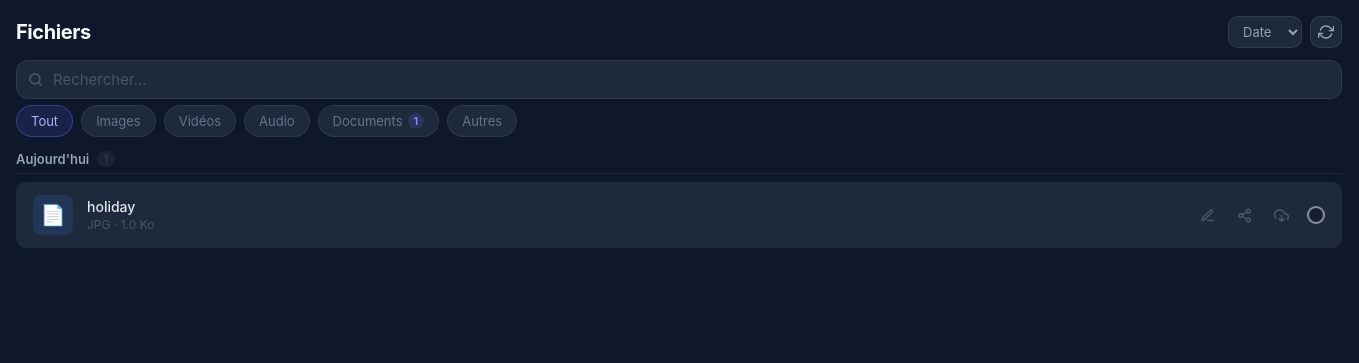
Test: TimelineView › remaining coverage: secondary buttons, error paths, swipe, day labels › clears the search query via the clear button
In the field with placeholder "Rechercher…": (679,80) [16, 60, 1342, 99], type "nothing-matches"
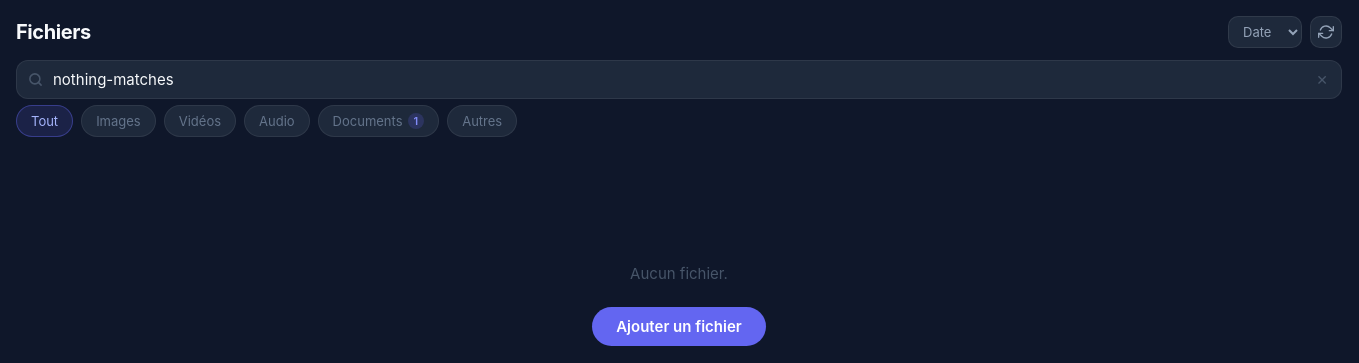
Click the button "✕": (1322,80) [1312, 68, 1332, 90]
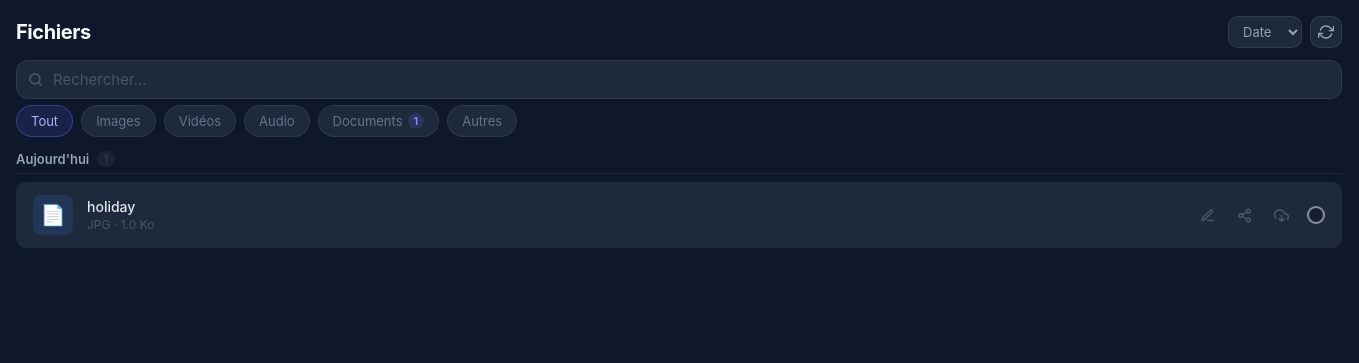
Expected: the field with placeholder "Rechercher…" is empty, [16, 60, 1342, 99]
